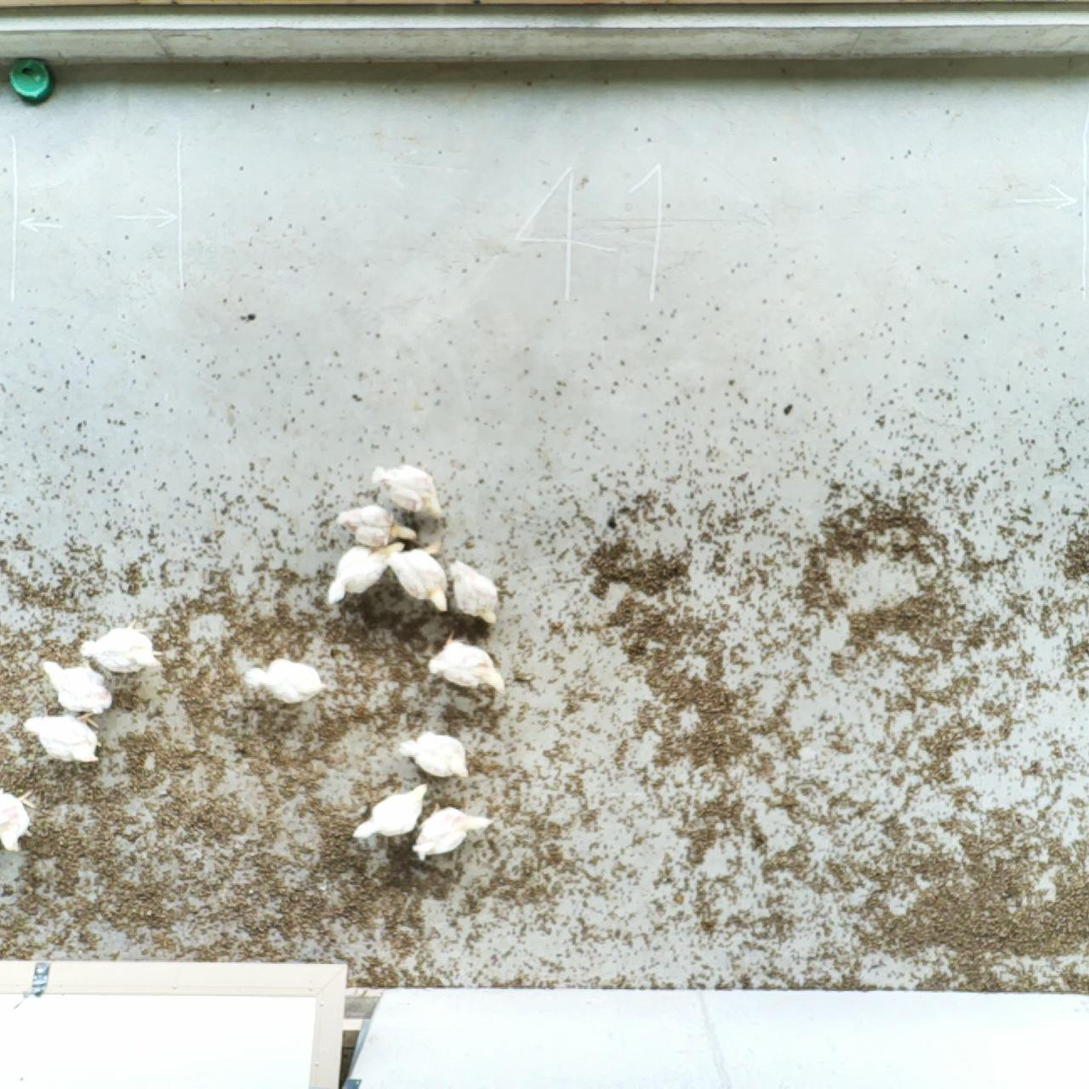chicken: (427, 627, 509, 700), (324, 536, 405, 604), (20, 707, 106, 767), (350, 782, 430, 844), (77, 617, 165, 673), (410, 803, 492, 863), (387, 539, 452, 613), (39, 655, 114, 718), (368, 463, 446, 522), (243, 656, 329, 706), (337, 501, 420, 549), (400, 730, 472, 782), (448, 558, 502, 624), (0, 784, 37, 853)
